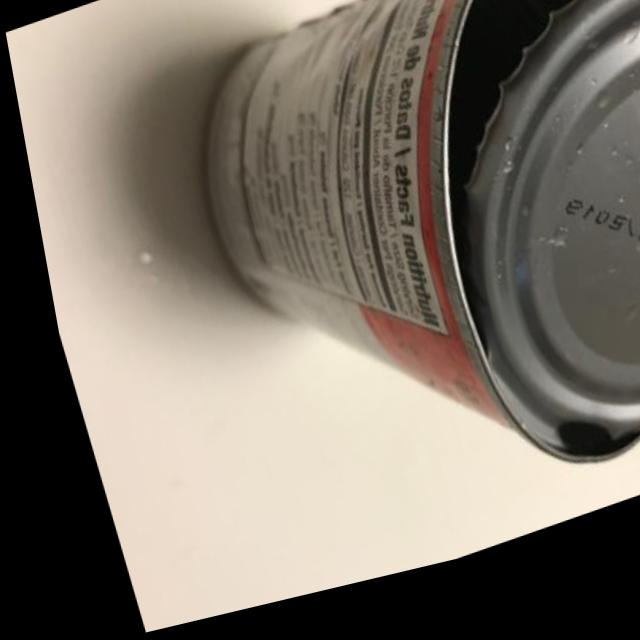metal: (109, 0, 640, 619)
